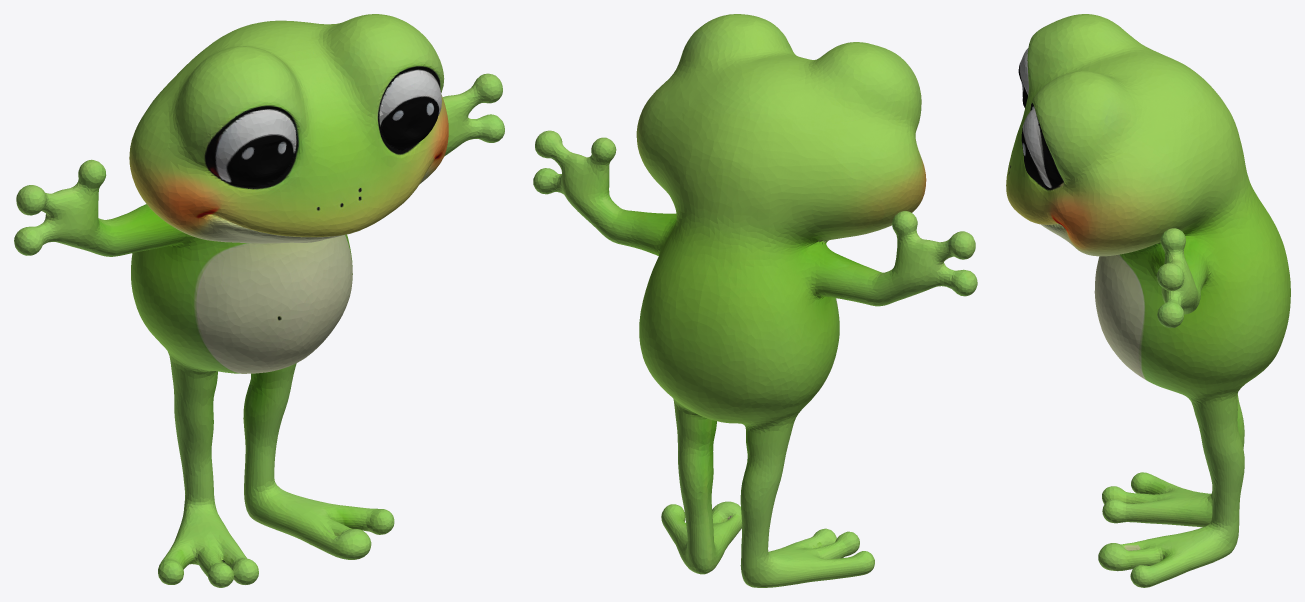
File: npc_frog.glb
3 views of the same model, side by side, from view 1: azimuth 30°, elevation 25°; view 2: azimuth 150°, elevation 25°; view 3: azimuth 270°, elevation 25° (orthographic). The views are drawn at different scales.
Parts seen in each view (by area): view 1: textured_mesh.obj; view 2: textured_mesh.obj; view 3: textured_mesh.obj.
Boxes of the visible parts, x1,y1,x2,y2 form: textured_mesh.obj: (14, 14, 504, 587); textured_mesh.obj: (533, 14, 977, 587); textured_mesh.obj: (1006, 14, 1290, 587).
Bounding box in the file's own units: 1.85 × 1.99 × 1.04.
1 material, 1 textured.
